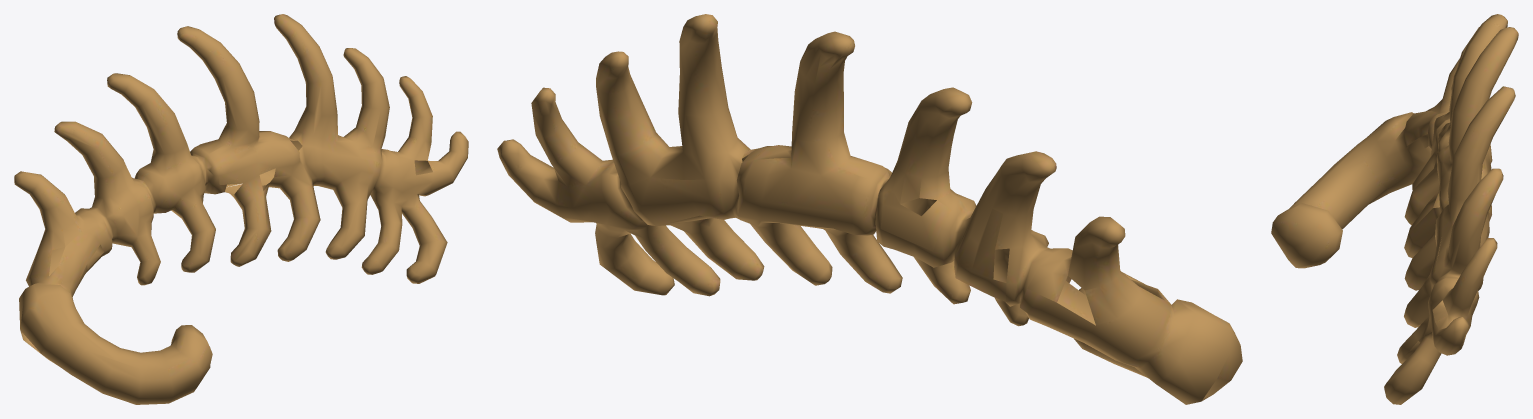
The model's file is cola_de_escorpion_fosil.glb.
3 renders of one model, left to right at view 1: azimuth 30°, elevation 25°; view 2: azimuth 150°, elevation 25°; view 3: azimuth 270°, elevation 25°, orthographic. The views are drawn at different scales.
Parts seen in each view (by area): view 1: cola_de_escorpion_fosil; view 2: cola_de_escorpion_fosil; view 3: cola_de_escorpion_fosil.
Part boxes in pixels (bbox=[...]): cola_de_escorpion_fosil: bbox=[14, 14, 468, 404]; cola_de_escorpion_fosil: bbox=[497, 14, 1242, 404]; cola_de_escorpion_fosil: bbox=[1271, 14, 1518, 404].
Size of what is drawn, in the model's own units: 0.9 by 0.4979 by 0.3815.
1 material, 1 textured.
